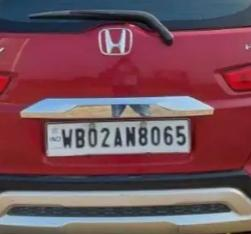0: (148, 121, 161, 147), (87, 127, 100, 151)
2: (99, 125, 111, 151)
5: (176, 123, 189, 148)
6: (163, 122, 174, 147)
8: (136, 125, 149, 149)
A: (111, 127, 125, 149)
B: (74, 126, 86, 150)
N: (124, 125, 137, 150)
W: (61, 127, 74, 151)
